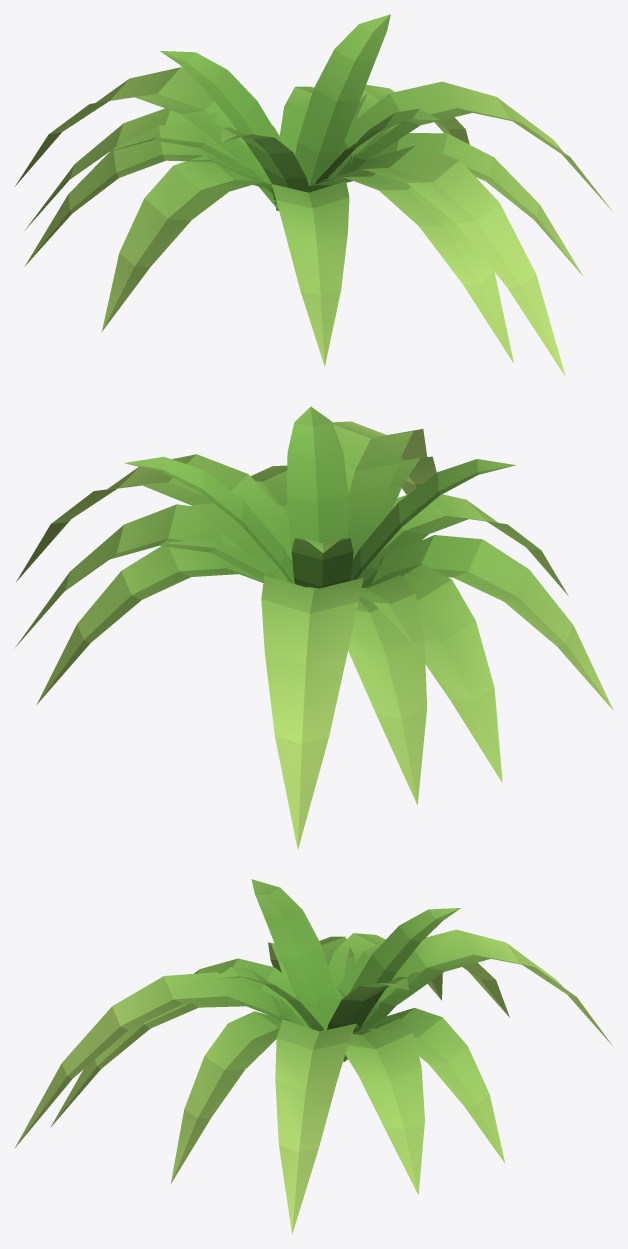
The model's file is Plant_Fern.glb.
3 views of the same model, one above another, from view 1: azimuth 30°, elevation 25°; view 2: azimuth 150°, elevation 25°; view 3: azimuth 270°, elevation 25° (orthographic). The views are drawn at different scales.
Visible parts, largest first — view 1: Plant_Fern; view 2: Plant_Fern; view 3: Plant_Fern.
Part boxes in pixels (x1=…): Plant_Fern: x1=15, y1=14, x2=611, y2=376; Plant_Fern: x1=14, y1=406, x2=613, y2=849; Plant_Fern: x1=14, y1=879, x2=612, y2=1234.
Size of the model in its own units: 3.31 by 1.19 by 3.65.
